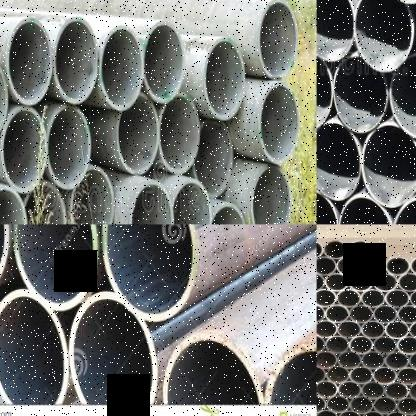pipe: (68, 292, 158, 405), (100, 224, 197, 322), (0, 289, 69, 409), (163, 332, 264, 406), (13, 224, 98, 310), (361, 122, 416, 206), (353, 0, 414, 73), (333, 56, 388, 134), (6, 17, 52, 106), (1, 107, 48, 192), (53, 17, 98, 104), (100, 25, 144, 111), (47, 105, 91, 189), (203, 36, 245, 121), (142, 21, 186, 102), (316, 122, 361, 201), (258, 81, 300, 164), (117, 93, 159, 174), (266, 340, 316, 405), (160, 94, 200, 173), (258, 0, 297, 79), (194, 121, 234, 198), (70, 167, 114, 224), (389, 54, 416, 140), (251, 166, 291, 224), (316, 0, 354, 61), (129, 180, 174, 224), (172, 180, 212, 224), (339, 196, 394, 224), (317, 48, 333, 132), (0, 188, 27, 224), (207, 204, 248, 224), (0, 54, 8, 144), (323, 239, 348, 260), (373, 272, 398, 293), (348, 239, 372, 260), (385, 256, 410, 276), (385, 288, 410, 308), (373, 304, 398, 324), (336, 288, 361, 308), (336, 256, 361, 276), (324, 272, 349, 292), (361, 320, 385, 340), (337, 320, 362, 339), (373, 336, 398, 355), (384, 351, 409, 370), (337, 350, 362, 369), (372, 366, 397, 385), (348, 273, 373, 292), (384, 321, 410, 339), (361, 257, 385, 276), (349, 304, 373, 323), (326, 365, 350, 384), (361, 381, 385, 400), (325, 304, 349, 323), (349, 395, 373, 414), (384, 382, 409, 400), (372, 396, 397, 414), (337, 381, 362, 399), (349, 336, 373, 354), (361, 289, 385, 307), (361, 351, 385, 369), (326, 395, 350, 413), (349, 366, 373, 384), (325, 336, 349, 354), (317, 379, 338, 399), (317, 349, 337, 369), (397, 271, 416, 292), (317, 255, 336, 276), (396, 304, 416, 323), (317, 288, 337, 307), (396, 335, 416, 354), (396, 366, 416, 385), (396, 396, 416, 415), (317, 320, 337, 338), (316, 334, 326, 354), (316, 365, 326, 383), (316, 394, 326, 412), (408, 350, 416, 370), (316, 303, 324, 323), (408, 381, 416, 401), (316, 272, 324, 291), (317, 409, 338, 416), (361, 410, 385, 416), (338, 410, 362, 416), (409, 289, 416, 308), (409, 321, 416, 339), (384, 411, 409, 416), (410, 256, 416, 276), (316, 239, 322, 259)
